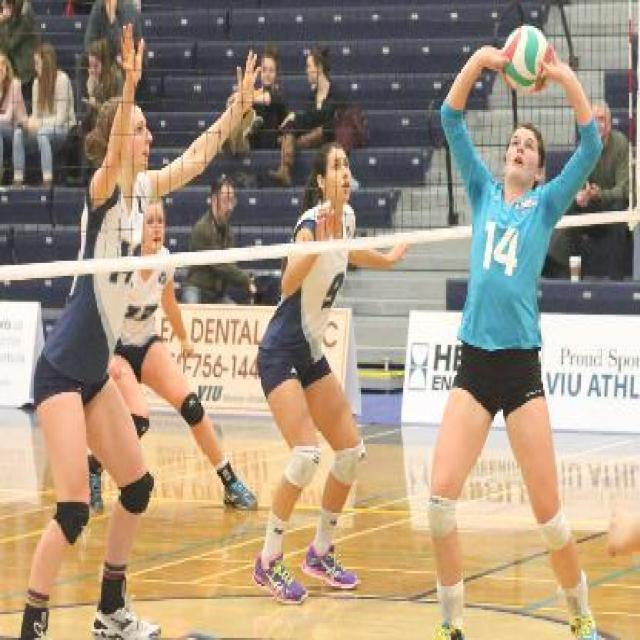volleyball: (502, 25, 554, 92)
